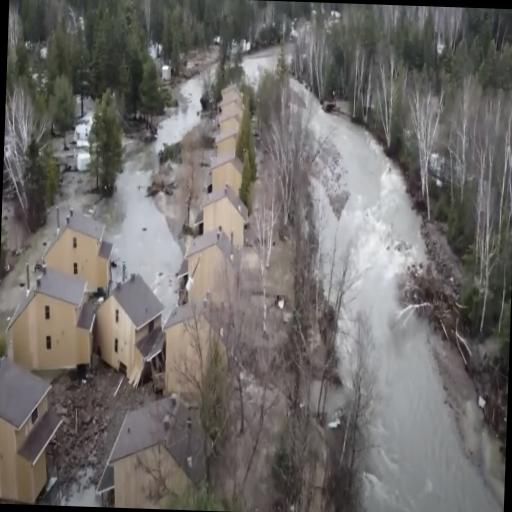flood: (294, 83, 503, 512), (55, 72, 210, 317), (0, 205, 55, 329), (57, 418, 121, 507), (241, 43, 279, 85), (285, 40, 292, 61)
house: (106, 390, 208, 510), (1, 262, 94, 374), (0, 360, 63, 505), (161, 292, 236, 394), (92, 273, 161, 383), (40, 210, 116, 306), (182, 224, 240, 298), (198, 178, 250, 240), (208, 148, 246, 188)
